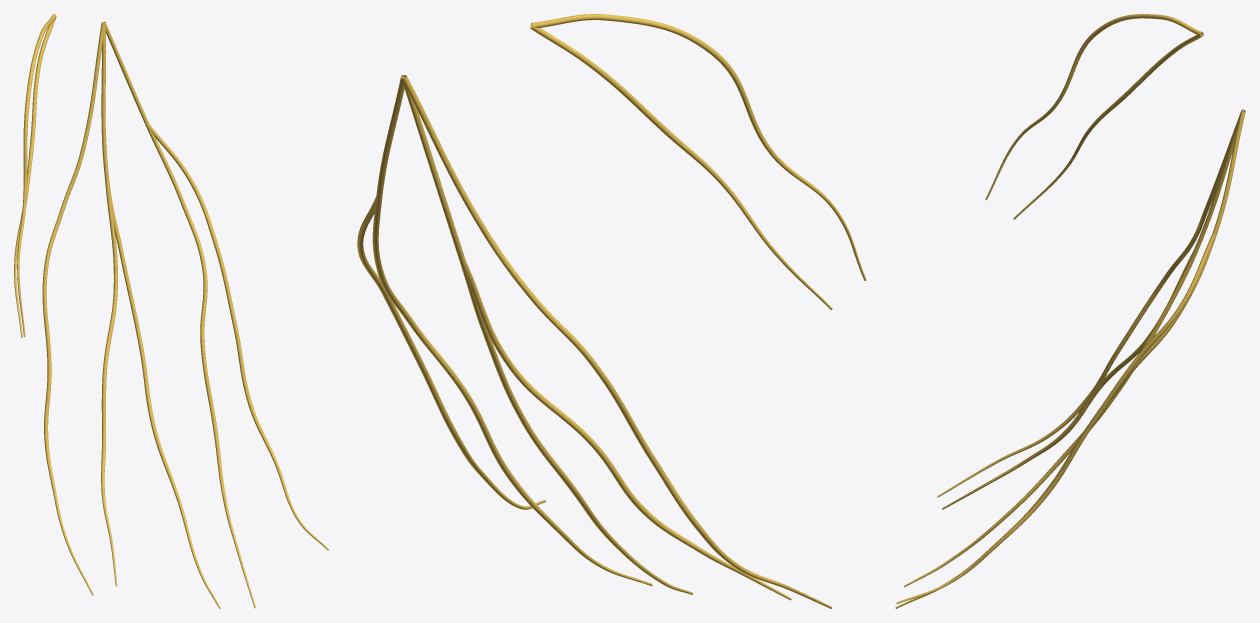
File: Dorsal_digital_branches_ulnar_nerve_right.glb
3 views of the same model, side by side, from view 1: azimuth 30°, elevation 25°; view 2: azimuth 150°, elevation 25°; view 3: azimuth 270°, elevation 25° (orthographic). The views are drawn at different scales.
Visible parts, largest first — view 1: Dorsal_digital_branches_of_ulnar_nerve.r_BezierCurve.531; view 2: Dorsal_digital_branches_of_ulnar_nerve.r_BezierCurve.531; view 3: Dorsal_digital_branches_of_ulnar_nerve.r_BezierCurve.531.
Part boxes in pixels (x1,y1,x2,y2): Dorsal_digital_branches_of_ulnar_nerve.r_BezierCurve.531: [14, 14, 328, 608]; Dorsal_digital_branches_of_ulnar_nerve.r_BezierCurve.531: [357, 14, 866, 608]; Dorsal_digital_branches_of_ulnar_nerve.r_BezierCurve.531: [895, 14, 1245, 608].
Bounding box in the file's own units: 0.0721 × 0.1326 × 0.0769.
